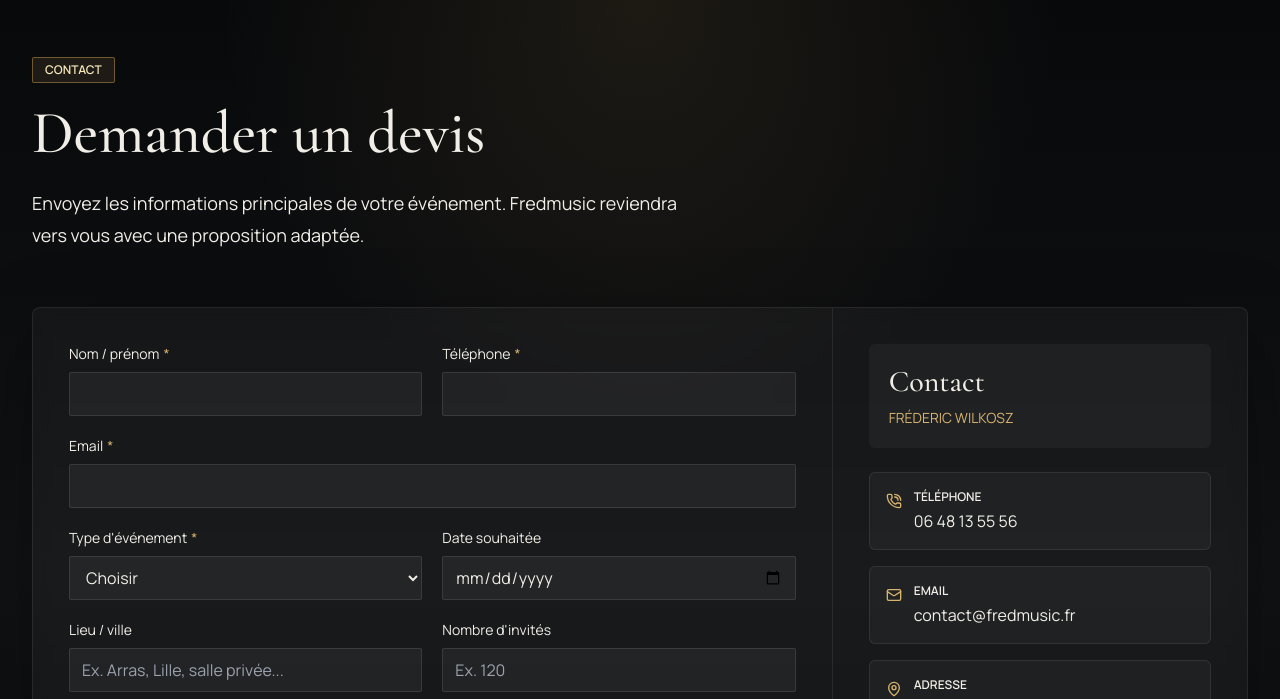
ContactPage › shows validation errors before submit
This screenshot has width=1280, height=699.
Type "A" into the field labelled "Nom / prénom*". click: (246, 394)
box: [69,372,422,416]
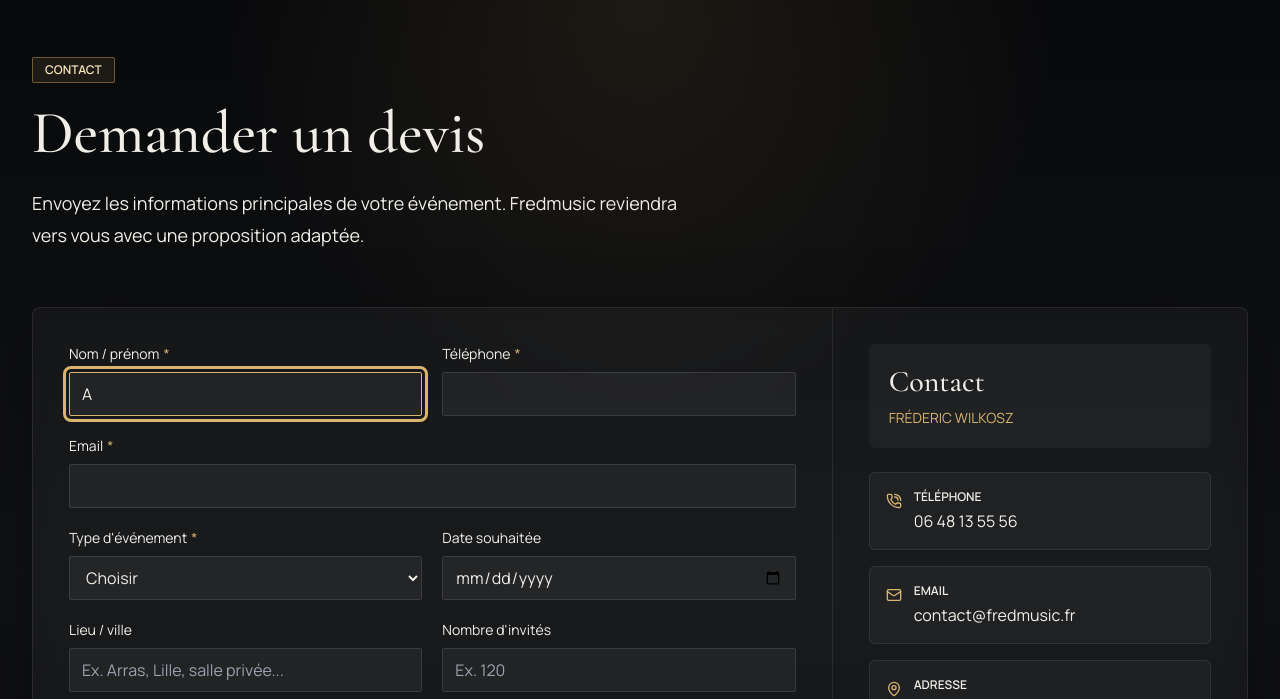
Type "1" into the field labelled "Téléphone*". click: (619, 394)
box: [442,372,796,416]
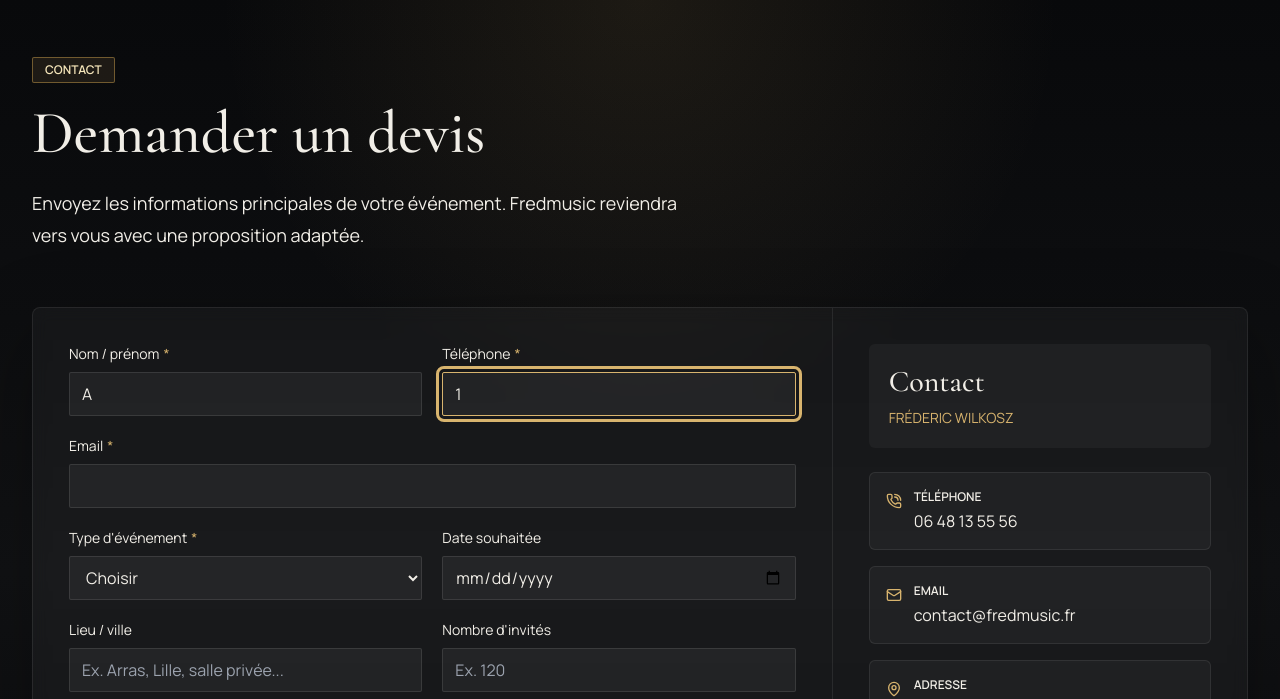
Type "invalid-email" into the field labelled "Email*". click: (432, 486)
box: [69,464,796,508]
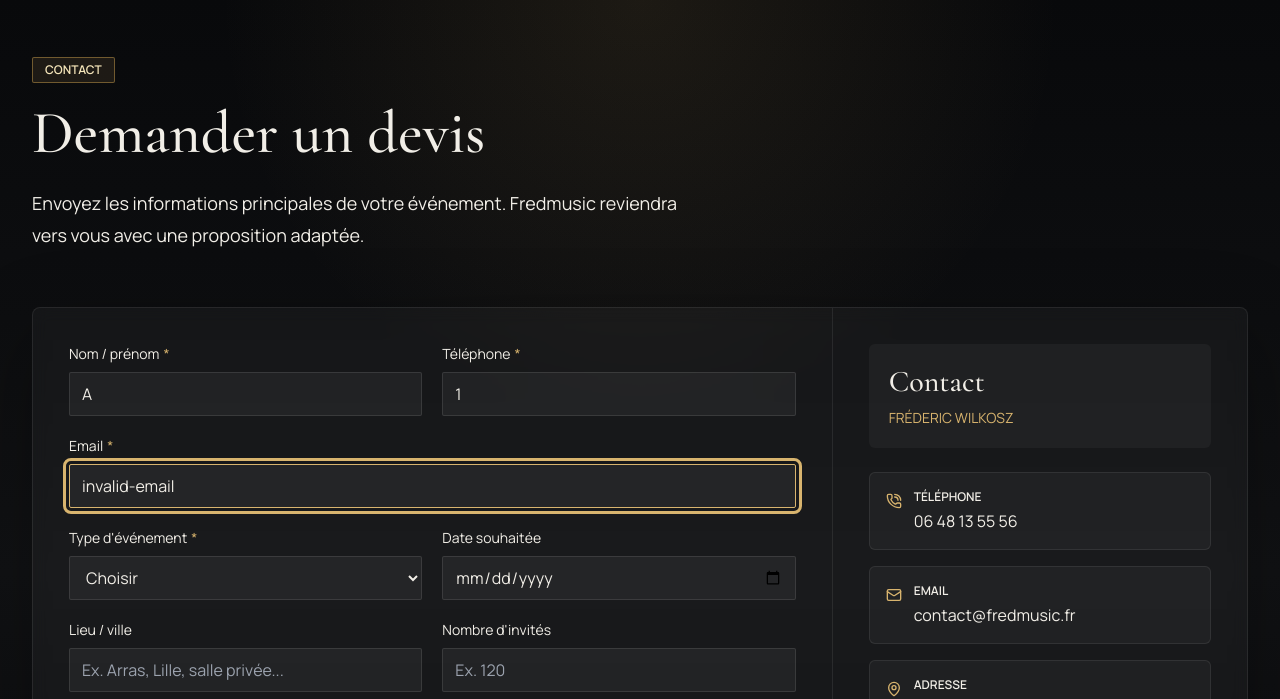
Select "Mariage" in the dropdown labelled "Type d'événement*". click: (246, 578)
box: [69,556,422,600]
(page scrolled)
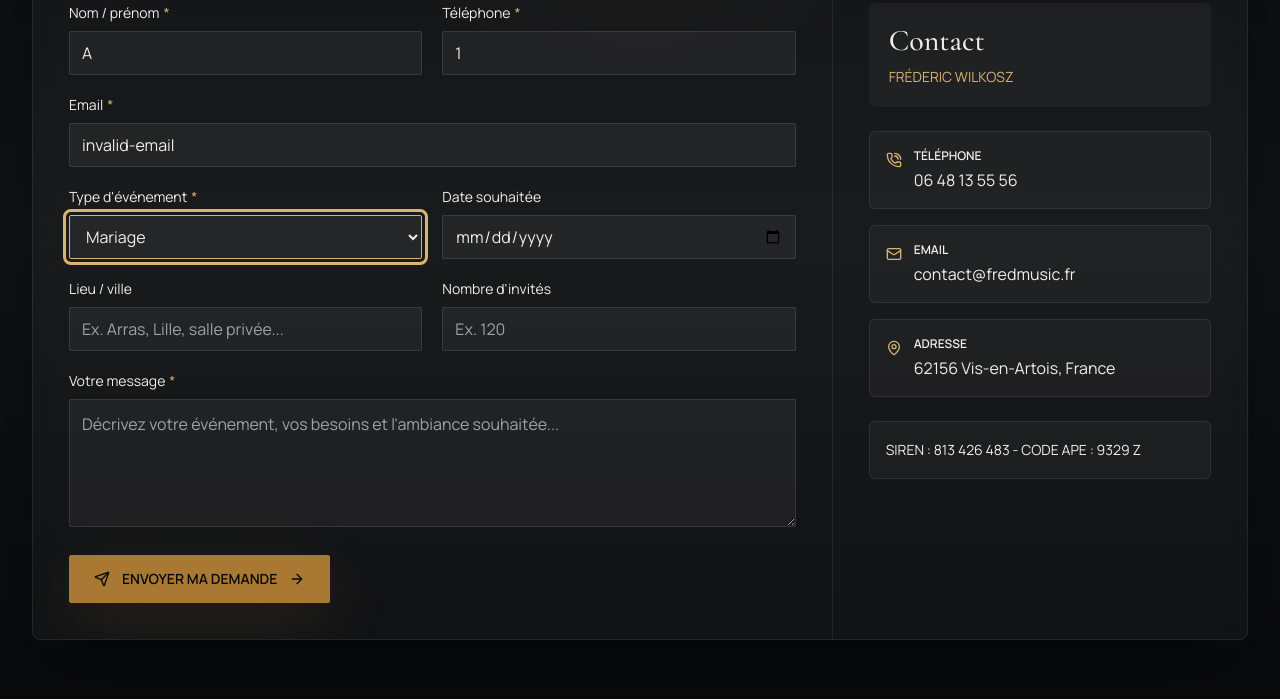
Type "Message valide" into the text box labelled "Votre message*". click: (432, 463)
box: [69,399,796,527]
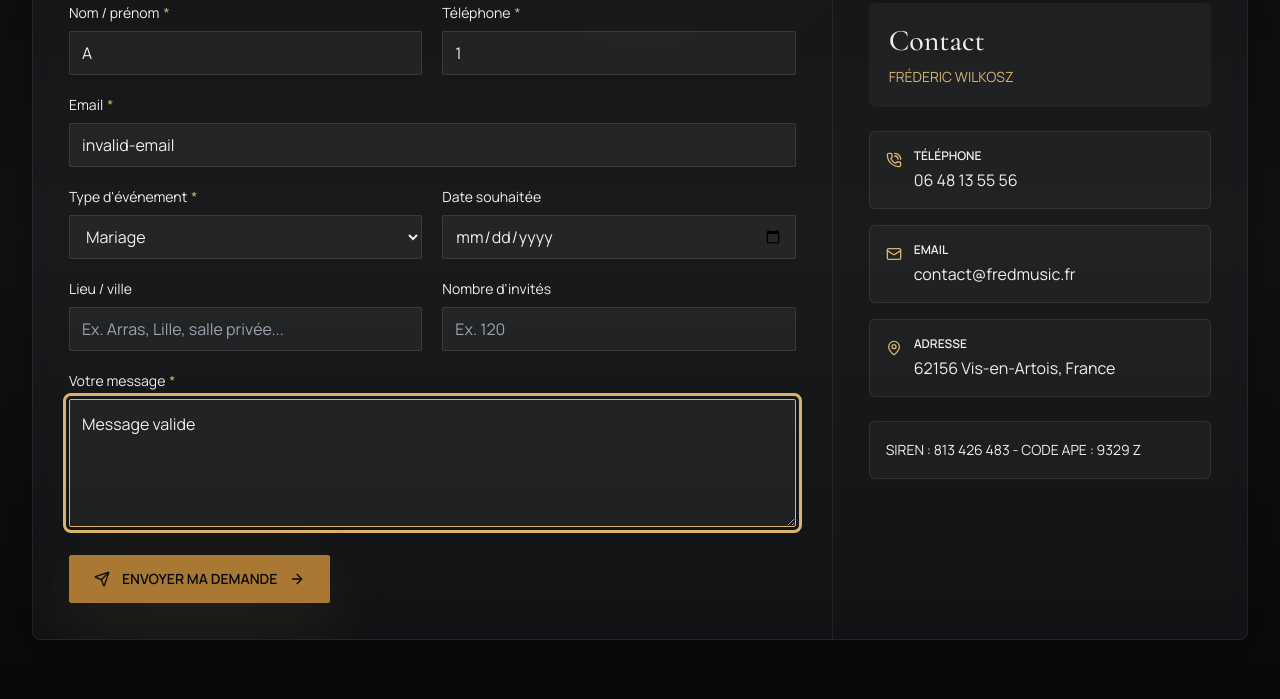
Submit the form named "envoyer ma demande", box [69,3,796,603]
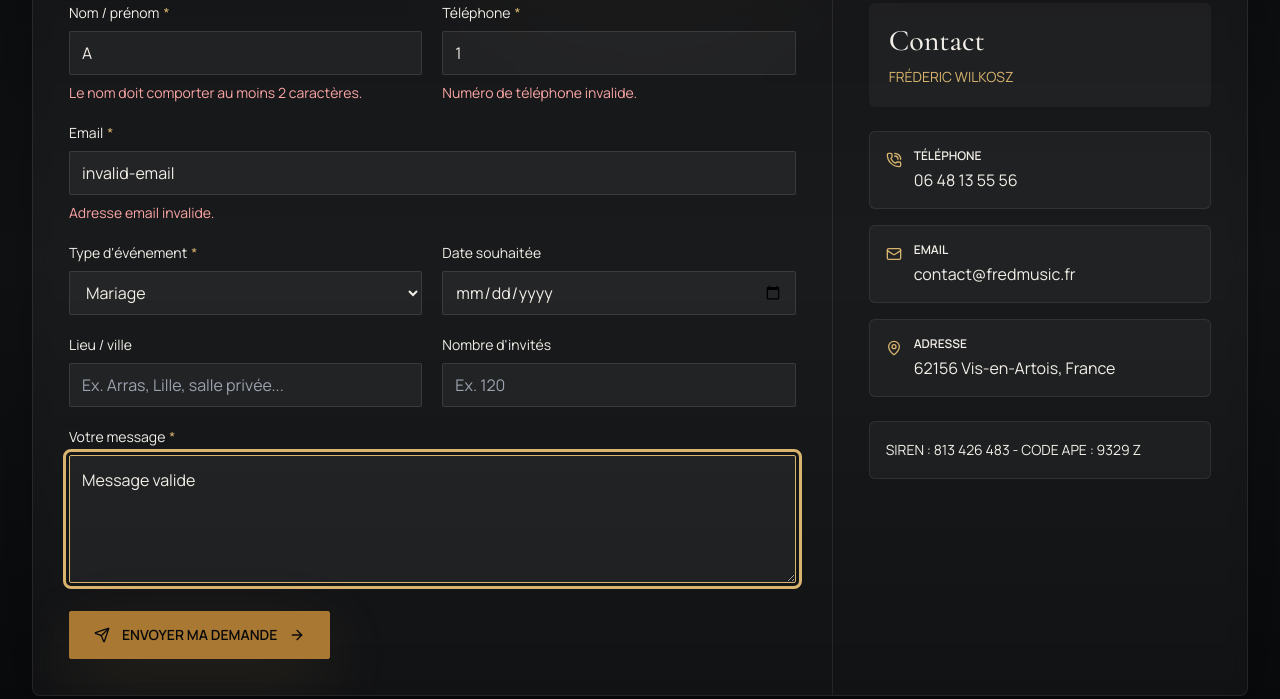
expect the text "Le nom doit comporter au moins 2 caractères." is shown: met, box [69,83,362,102]
expect the text "Adresse email invalide." is shown: met, box [69,203,214,222]
expect the text "Numéro de téléphone invalide." is shown: met, box [442,83,637,102]
